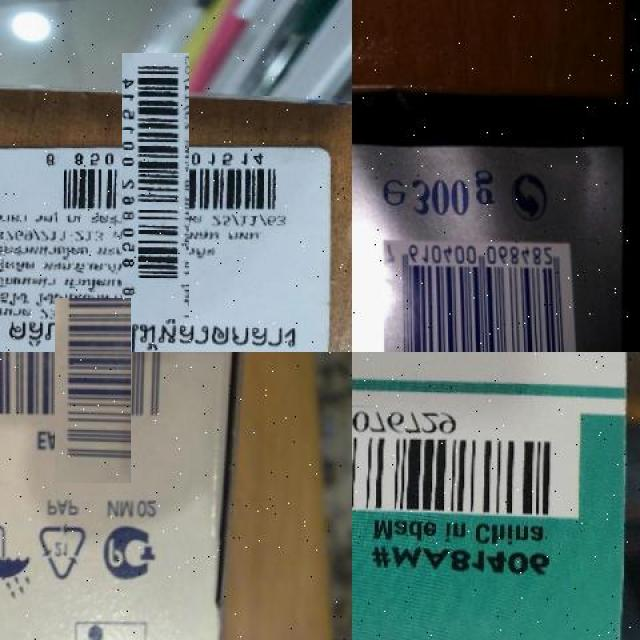Barcode: (72, 103, 240, 270), (352, 411, 564, 520), (384, 239, 584, 352), (28, 324, 158, 456)
